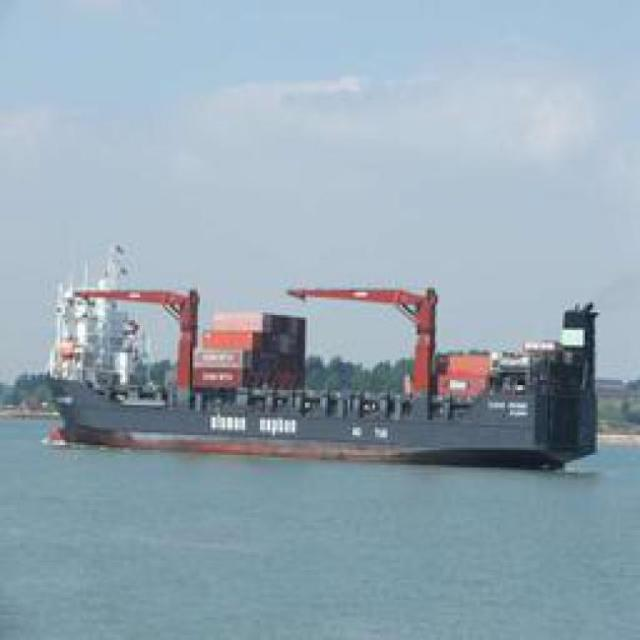boat: (44, 272, 602, 468)
